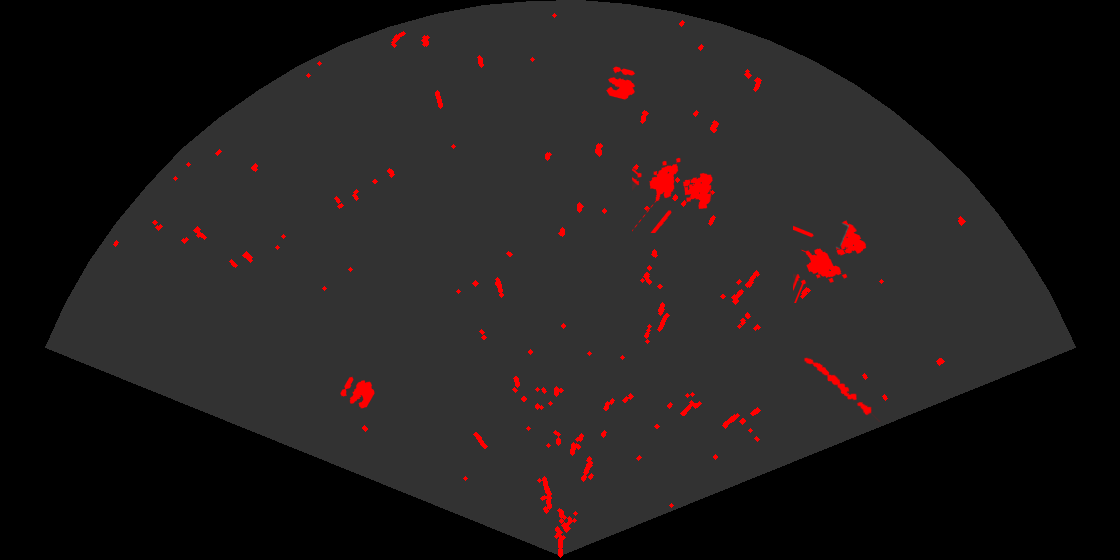ball: (339, 375, 376, 410), (605, 65, 637, 101)
cage: (632, 156, 714, 233), (793, 219, 868, 303)
chain: (802, 356, 882, 422)
